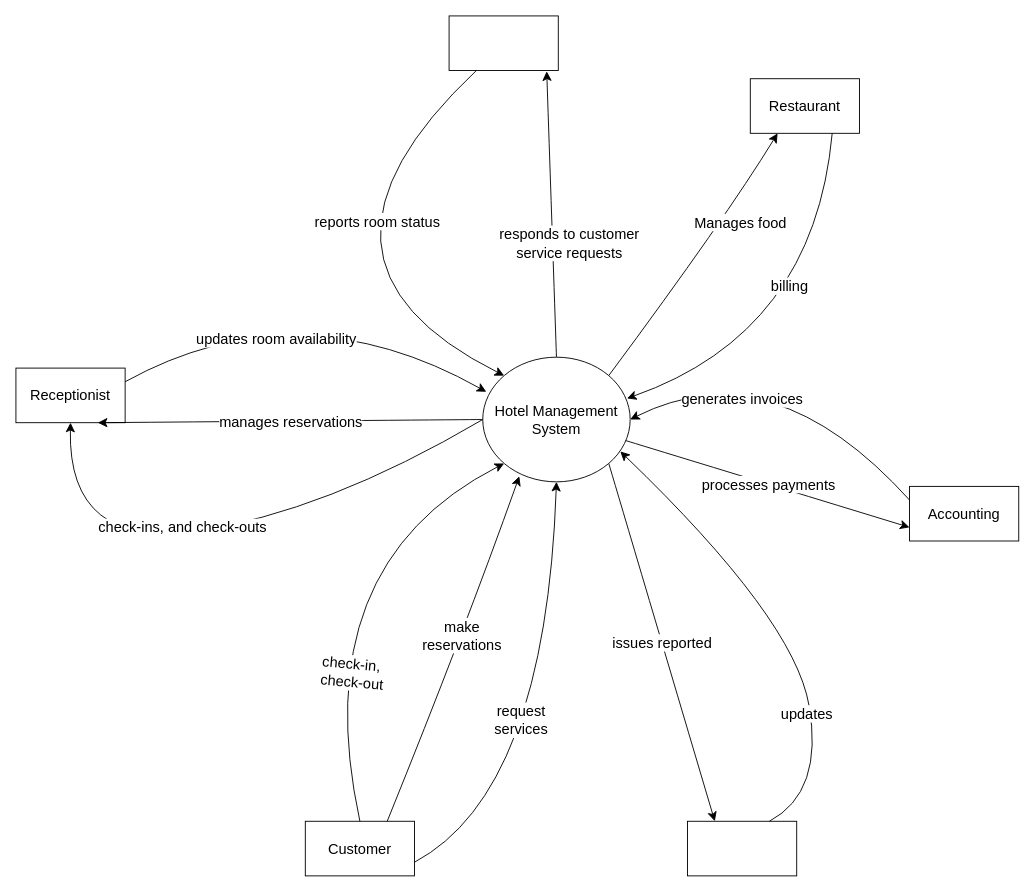
This 1035x892 diagram has some shape labels left out. The shapes that lost their labels are listed below. From the top down, each one's centre as x and y in pixels, then its label:
(503,43): Housekeeping
(742,848): Maintenance
